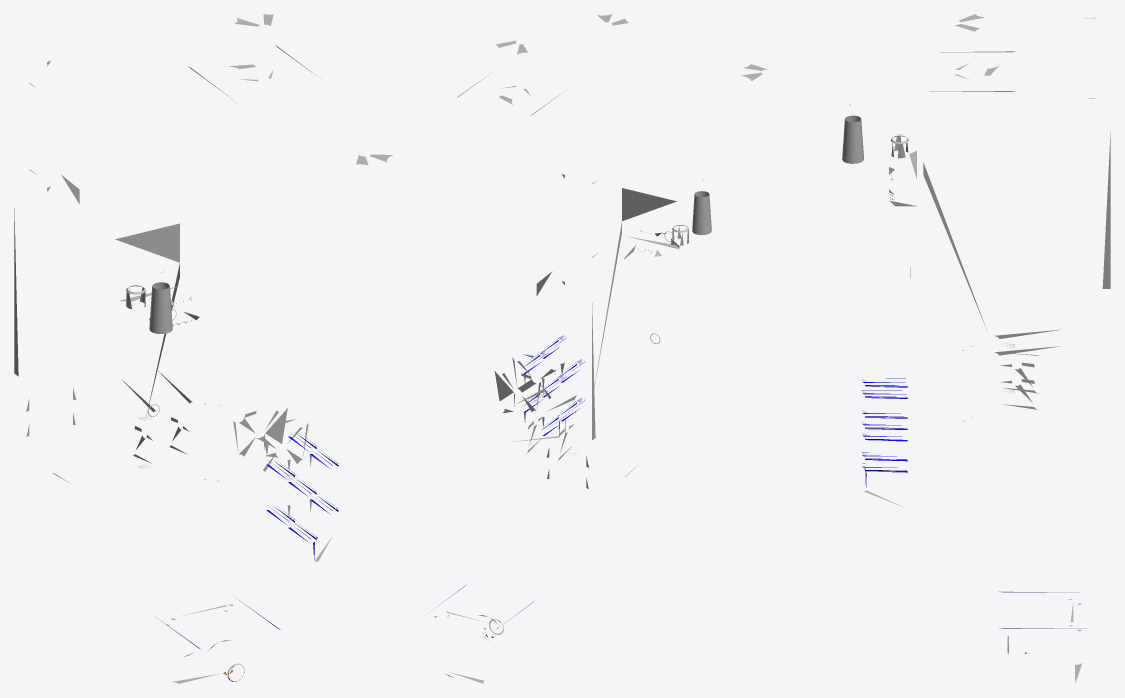
3 views of the same model, side by side, from view 1: azimuth 30°, elevation 25°; view 2: azimuth 150°, elevation 25°; view 3: azimuth 270°, elevation 25° (orthographic). The views are drawn at different scales.
Visible parts, largest first — view 1: F19721000063102000113_001_zb_ub_stiftzieher_13_fa (×2); view 2: F19721000063102000113_001_zb_ub_stiftzieher_13_fa (×2); view 3: F19721000063102000113_001_zb_ub_stiftzieher_13_fa (×2).
Part boxes in pixels (x1,y1,x2,y2): F19721000063102000113_001_zb_ub_stiftzieher_13_fa (×2): [14, 14, 392, 683]; F19721000063102000113_001_zb_ub_stiftzieher_13_fa (×2): [434, 14, 711, 683]; F19721000063102000113_001_zb_ub_stiftzieher_13_fa (×2): [741, 14, 1110, 682].
Size of the model in its own units: 146 by 237 by 461.
